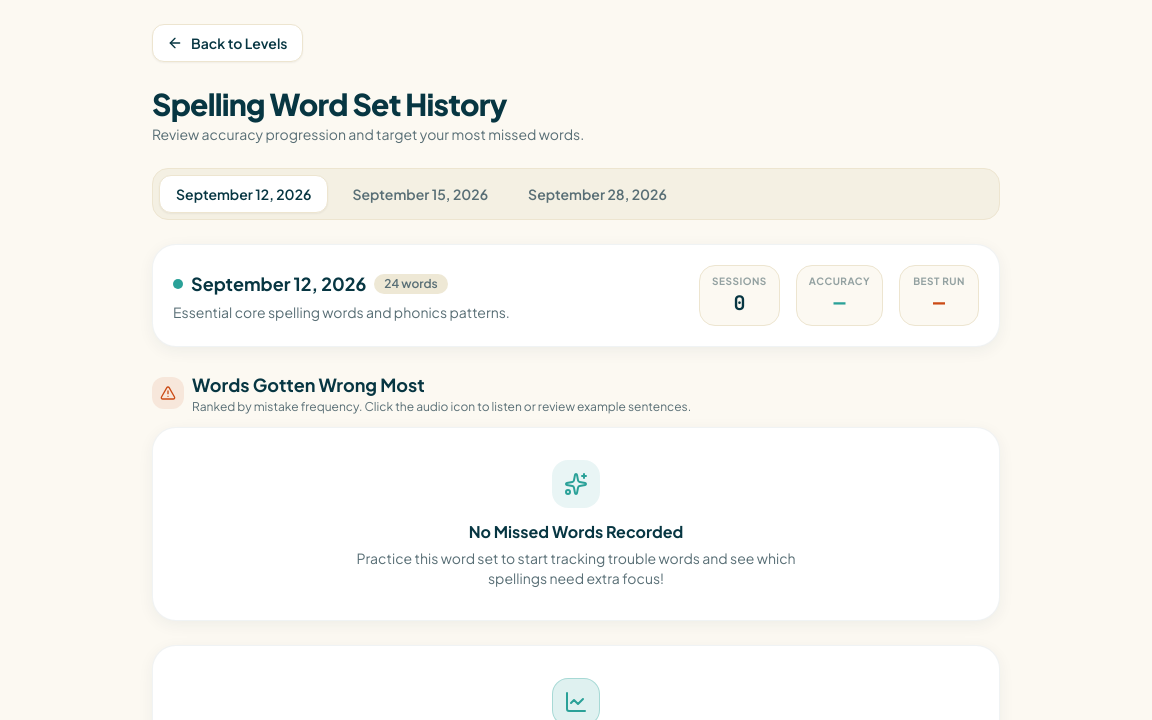
SpellingHistoryPage Component › switches between word sets when clicking level tabs
Note: Click 'September 28, 2026' tab
Step 1. Click the button "September 28, 2026" → (598, 194), box [512,176,683,212]
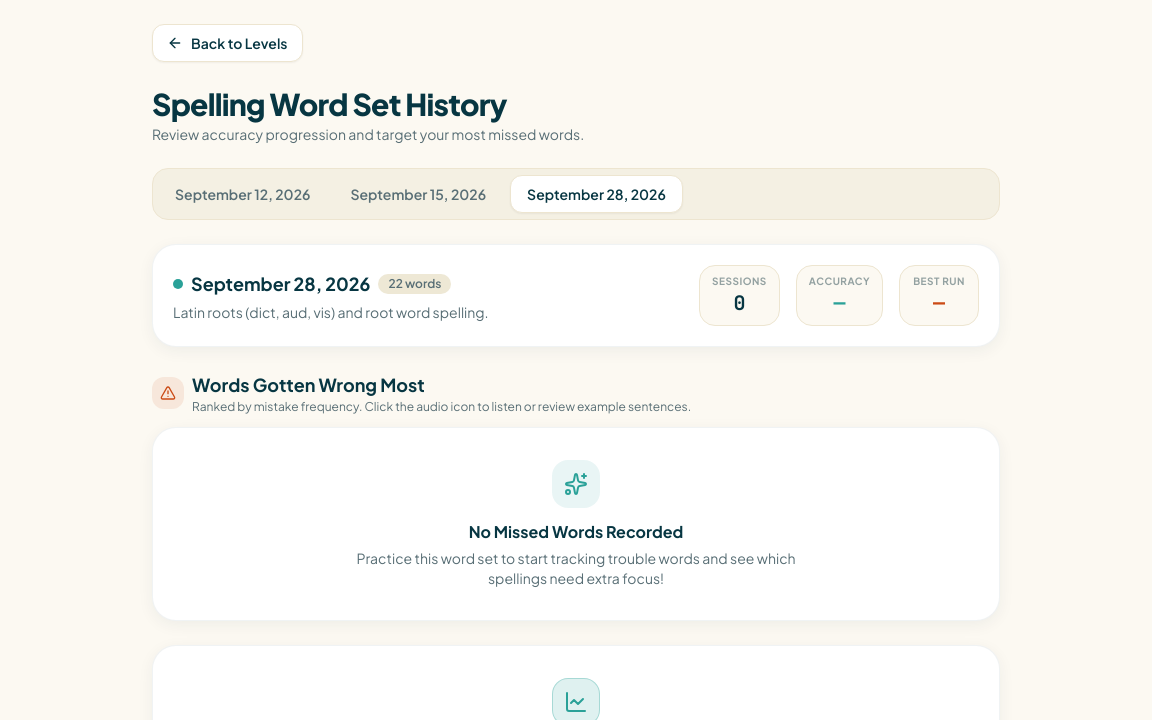
Expected: the text "Latin roots (dict, aud, vis) and root word spelling." is shown, [173,302,489,322]
Expected: the text "22 words" is shown, [378,274,452,294]
